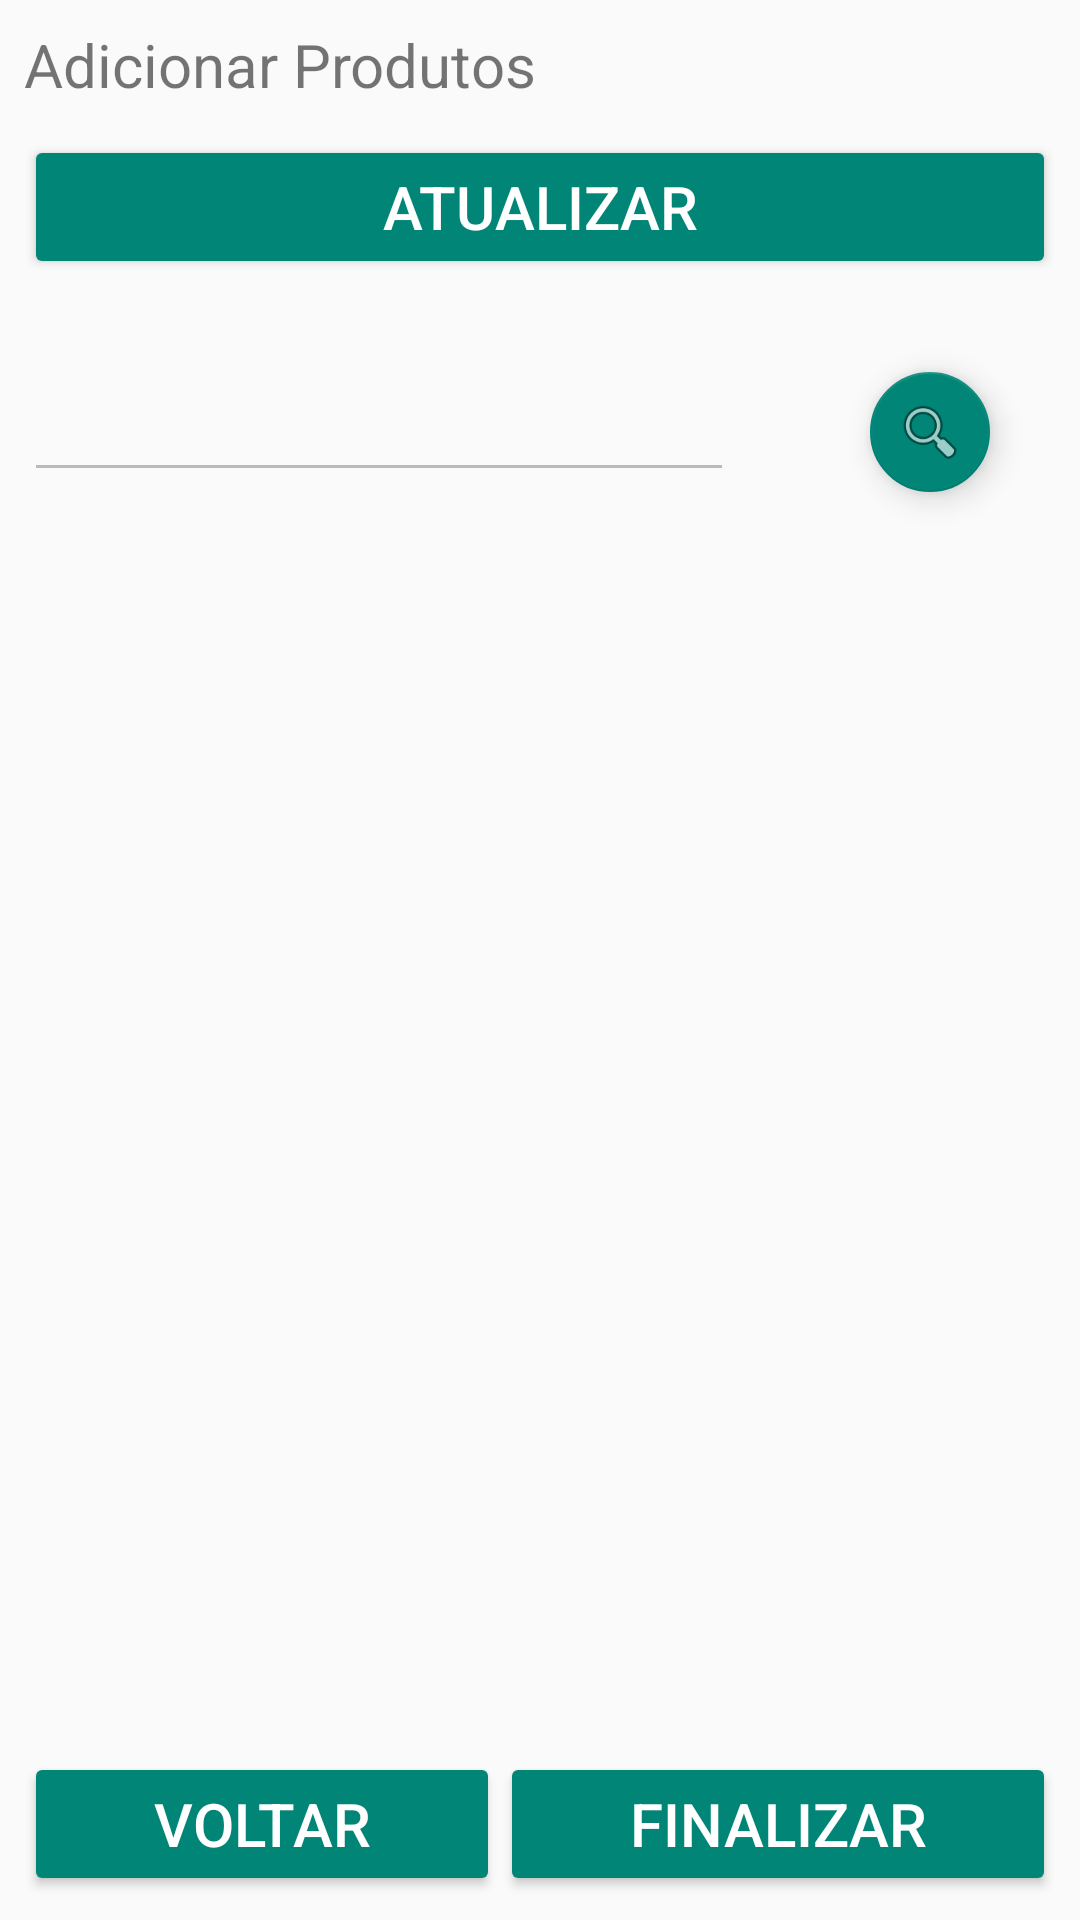

Where icons sit on this 1080 × 1920 app screen, as (x1, y1, x2, y2):
search: (870, 372, 990, 492)
